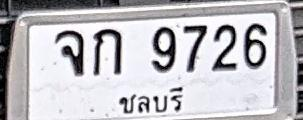2: (212, 24, 236, 70)
6: (244, 22, 266, 69)
7: (183, 24, 207, 72)
9: (152, 26, 176, 72)
A01: (92, 28, 122, 75)
A08: (54, 30, 84, 76)
CBI: (116, 84, 186, 117)
